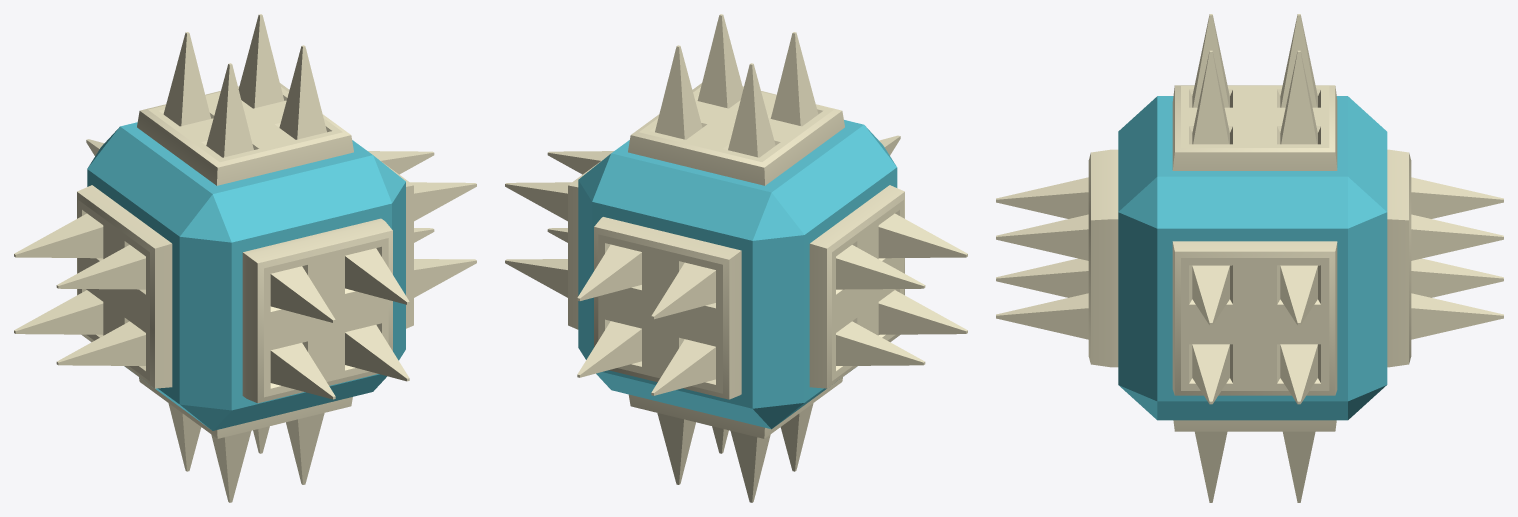
The model's file is Spike.glb.
The picture shows the model from 3 angles, left to right: view 1: azimuth 30°, elevation 25°; view 2: azimuth 150°, elevation 25°; view 3: azimuth 270°, elevation 25°; orthographic projection. The views are drawn at different scales.
Parts seen in each view (by area): view 1: Core003, Spike 025, Spike 032, Spike 033, Spike 035, Spike 034; view 2: Core003, Spike 024, Spike 032, Spike 033, Spike 035, Spike 034; view 3: Core003, Spike 034, Spike 033, Spike 025, Spike 024, Spike 035.
Part boxes in pixels (x1,y1,x2,y2): Core003: (87,122,405,430); Spike 025: (242,218,409,403); Spike 032: (14,185,172,388); Spike 033: (137,14,353,185); Spike 035: (139,377,352,502); Spike 034: (368,151,476,328); Core003: (578,120,897,429); Spike 024: (577,217,741,399); Spike 032: (809,185,967,388); Spike 033: (628,14,844,185); Spike 035: (628,377,842,502); Spike 034: (505,151,613,329); Core003: (1118,96,1387,420); Spike 034: (1172,241,1337,404); Spike 033: (1172,14,1337,170); Spike 025: (996,149,1118,367); Spike 024: (1387,149,1503,367); Spike 035: (1173,420,1336,502).
Bounding box in the file's own units: 0.7627 × 0.7627 × 0.7784.
